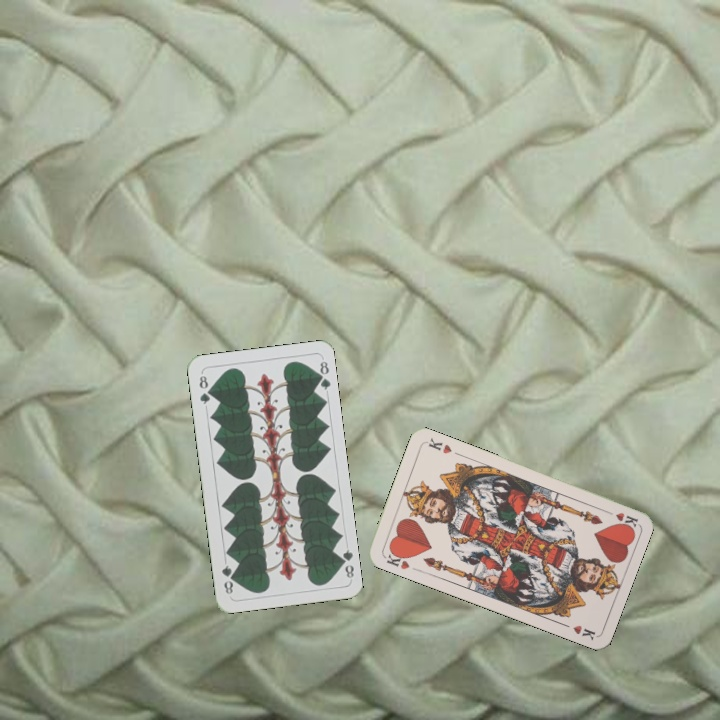G8: (335, 545, 356, 580), (195, 371, 213, 407)
HK: (600, 505, 640, 530), (381, 547, 412, 572)
